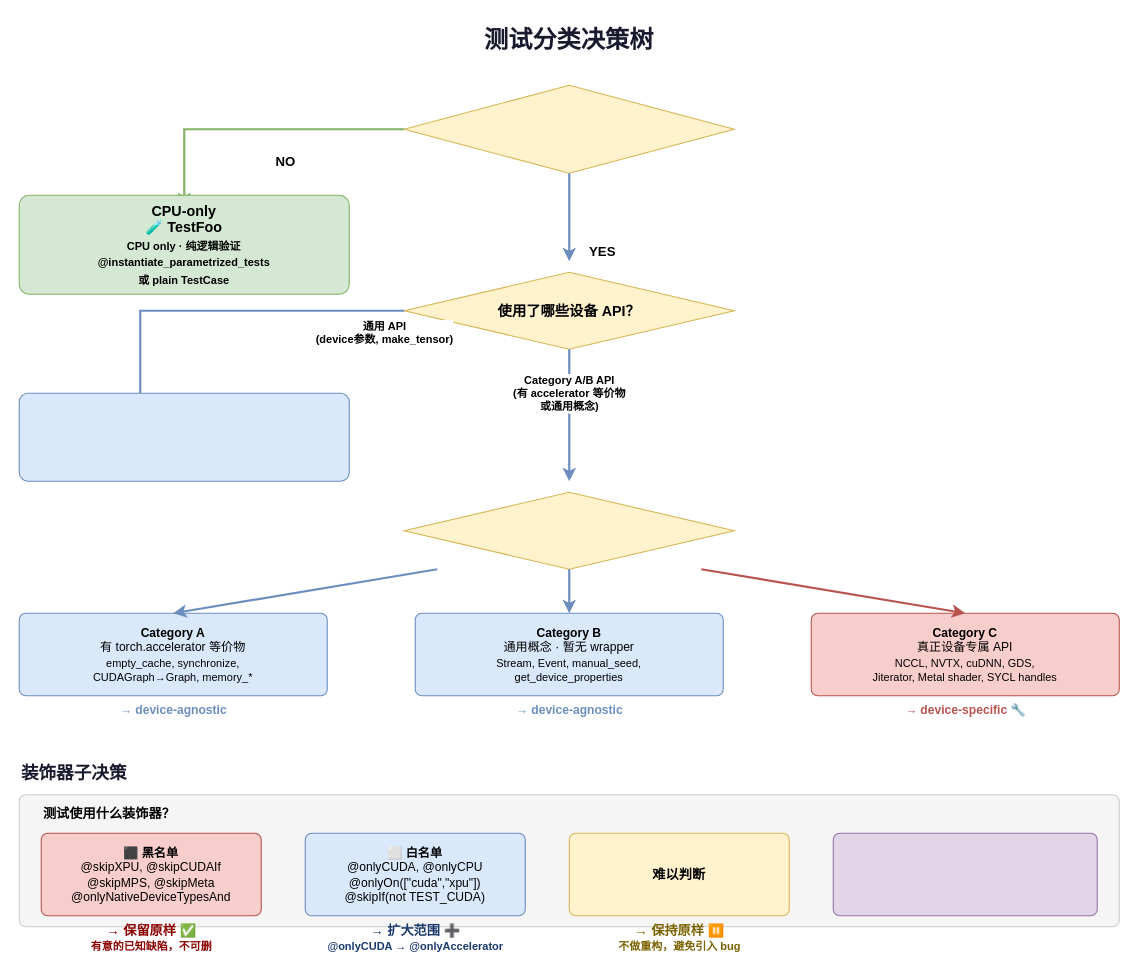
This 1139x974 diagram has some shape labels left out. Here are the shapes that lost their labels. From the top down, the centre of each, then its label:
pixel 568 128: 测试方法是否涉及设备（device）？
pixel 183 436: device-agnostic ⚡ TestFooDevice 使用 device 参数 instantiate_device_type_tests()
pixel 568 530: 具体是哪个设备？
pixel 964 874: 判别法则 将 "cuda" 换成 "mps" 测试是否仍然合理？ 是 → device-agnostic · 否 → device-specific
